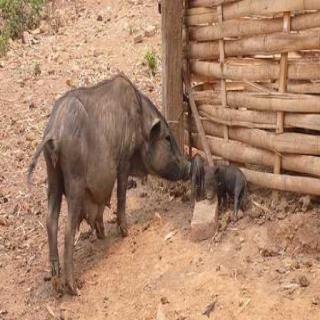Pig: (20, 54, 193, 287)
